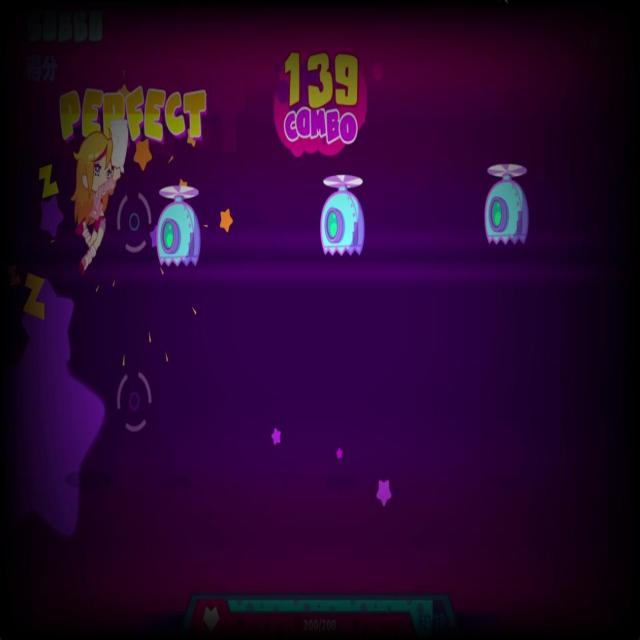jiqiqiu: (475, 156, 533, 252), (318, 168, 372, 262), (154, 180, 203, 265)
